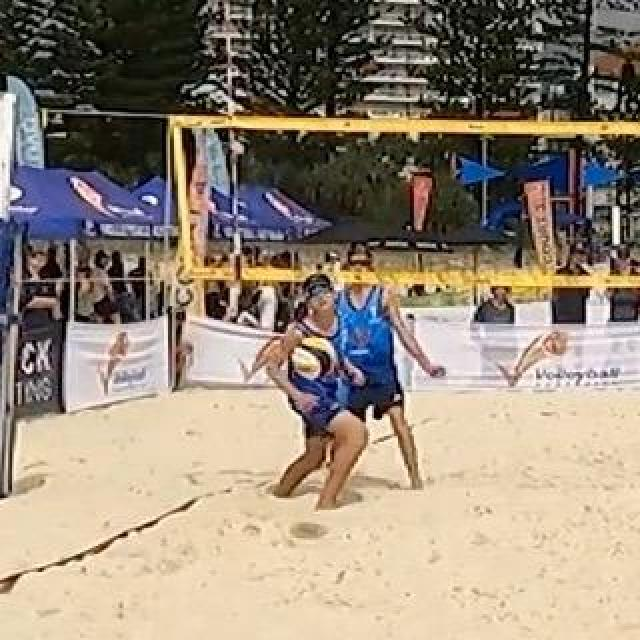volleyball: (291, 336, 337, 378)
